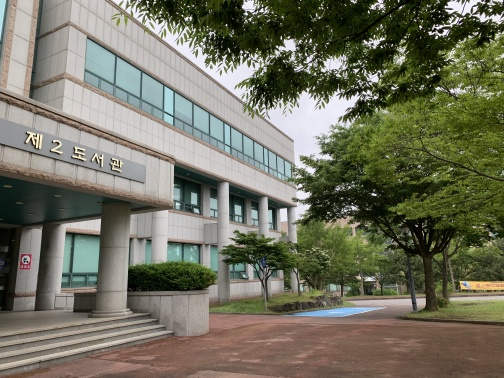Second Library: (2, 9, 205, 378)
